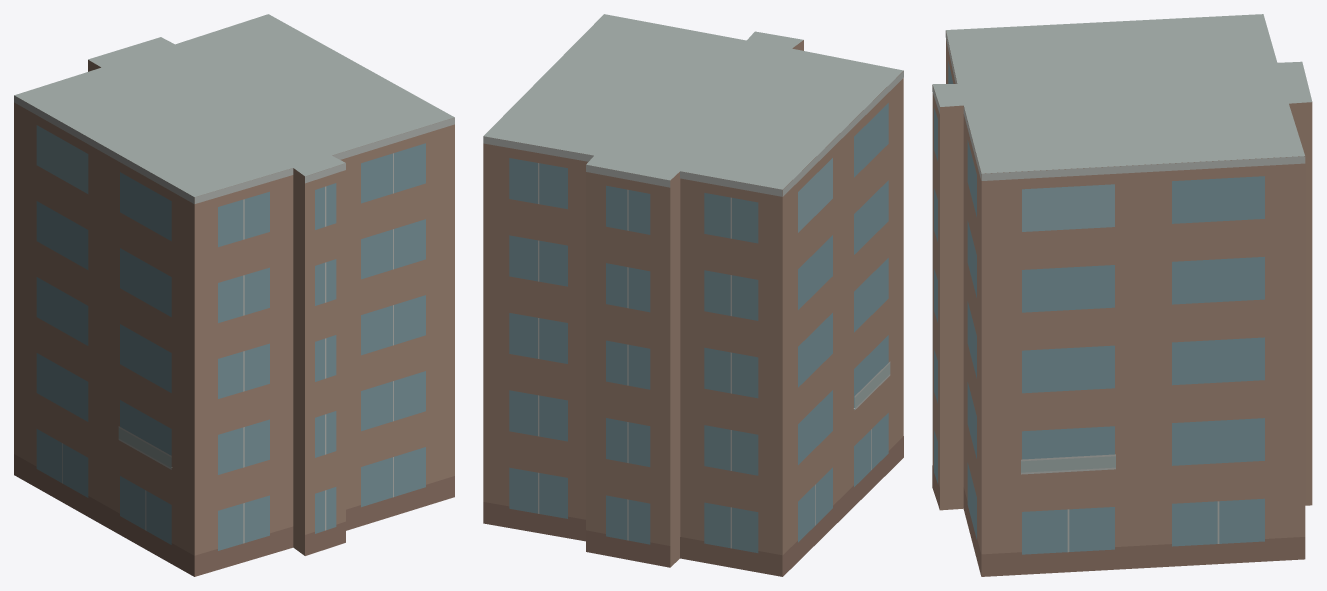
Rendered from survey-upis-32738355.glb.
3 renders of one model, left to right at view 1: azimuth 30°, elevation 25°; view 2: azimuth 150°, elevation 25°; view 3: azimuth 270°, elevation 25°, orthographic. The views are drawn at different scales.
Parts seen in each view (by area): view 1: survey-upis-32738355.tmp; view 2: survey-upis-32738355.tmp; view 3: survey-upis-32738355.tmp.
Part boxes in pixels (box(x1,y1,x2,y2)): survey-upis-32738355.tmp: box(14, 14, 454, 576); survey-upis-32738355.tmp: box(483, 14, 903, 576); survey-upis-32738355.tmp: box(932, 14, 1312, 576).
Size of the model in its own units: 11.13 by 13.1 by 11.2.
